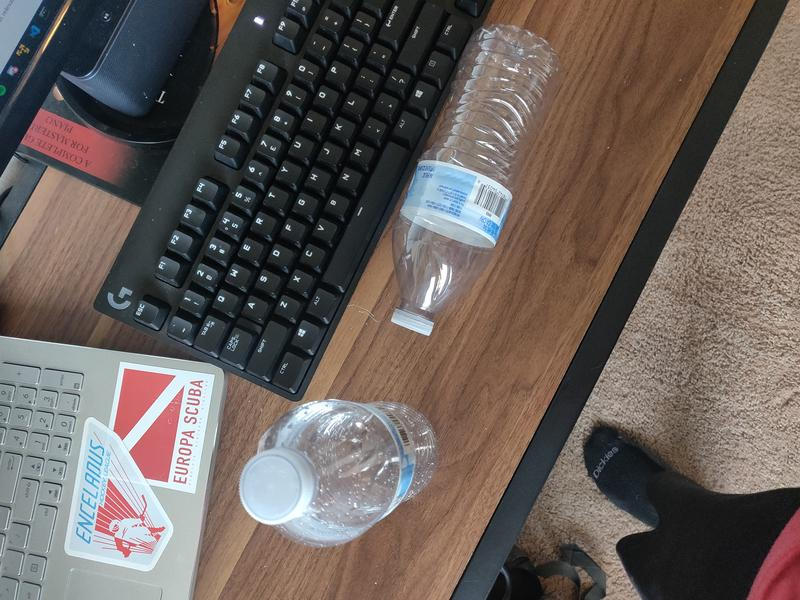bottle: (391, 26, 561, 337), (240, 400, 435, 549)
